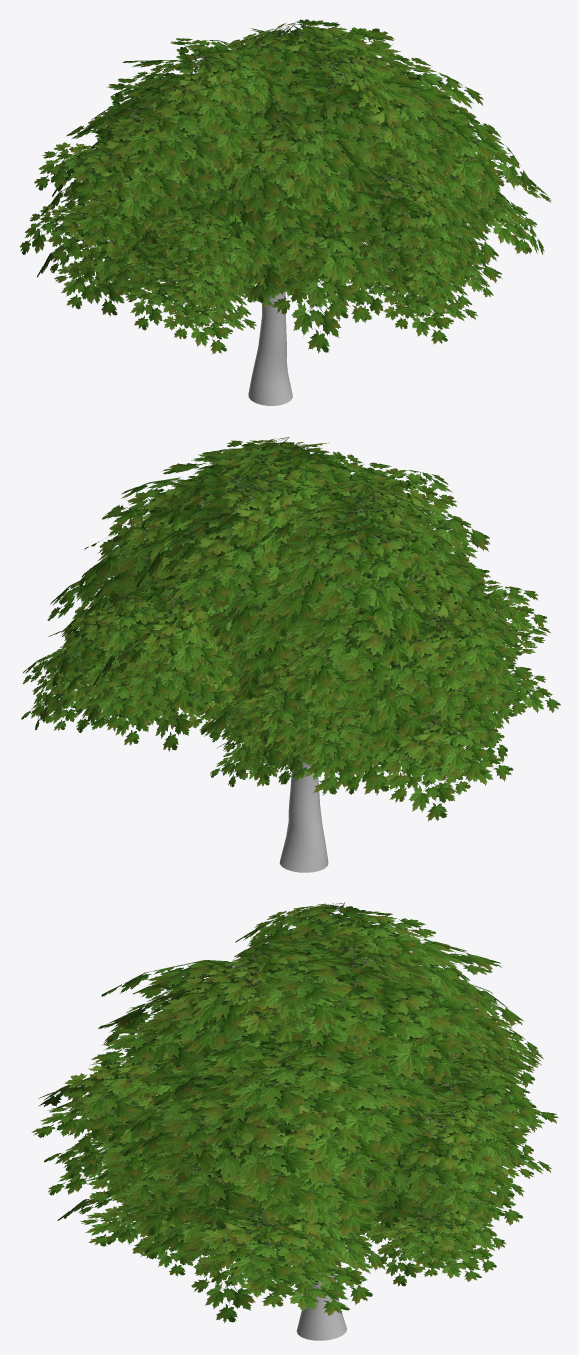
Rendered from MapleTree.fbx.
The picture shows the model from 3 angles, top to bottom: view 1: azimuth 30°, elevation 25°; view 2: azimuth 150°, elevation 25°; view 3: azimuth 270°, elevation 25°; orthographic projection. The views are drawn at different scales.
Parts seen in each view (by area): view 1: group32; view 2: group32; view 3: group32.
Part boxes in pixels (left/top/right/bottom): group32: left=20, top=19, right=550, bottom=405; group32: left=21, top=437, right=560, bottom=872; group32: left=31, top=902, right=558, bottom=1340.
Bounding box in the file's own units: 752 × 543 × 683.
